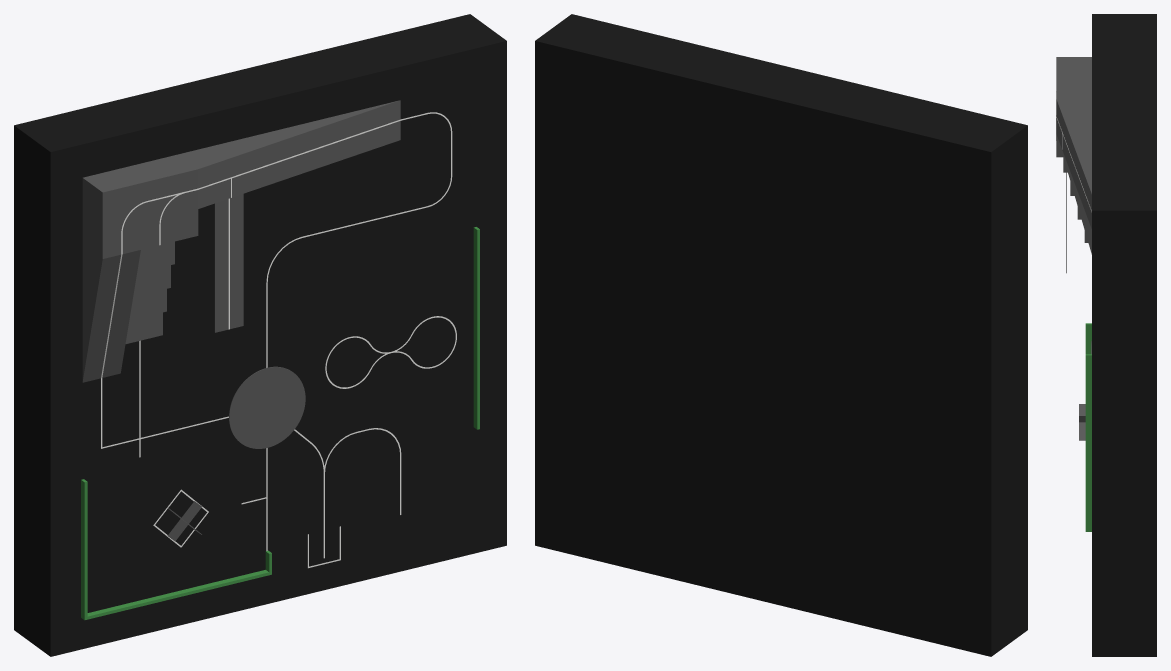
File: map.fbx
The picture shows the model from 3 angles, left to right: view 1: azimuth 30°, elevation 25°; view 2: azimuth 150°, elevation 25°; view 3: azimuth 270°, elevation 25°; orthographic projection. The views are drawn at different scales.
Parts seen in each view (by area): view 1: ground, big_ramp, block, small_ramp, roundabout, seesaw, planks_luggages, plank_8, stair_4, stair_3, stair_2, stair_1 (+1 smaller); view 2: ground; view 3: ground, big_ramp, block, plank_8, cross, planks_luggages.
Boxes of the visible parts, bbox=[...] form: ground: bbox=[14, 14, 506, 656]; big_ramp: bbox=[178, 100, 400, 208]; block: bbox=[82, 154, 198, 258]; small_ramp: bbox=[82, 245, 140, 382]; roundabout: bbox=[229, 366, 305, 448]; seesaw: bbox=[214, 194, 243, 332]; planks_luggages: bbox=[81, 479, 271, 620]; plank_8: bbox=[473, 227, 479, 429]; stair_4: bbox=[137, 241, 174, 273]; stair_3: bbox=[133, 265, 170, 296]; stair_2: bbox=[129, 289, 166, 320]; stair_1: bbox=[125, 312, 162, 343]; ground: bbox=[535, 14, 1027, 656]; ground: bbox=[1092, 14, 1156, 656]; big_ramp: bbox=[1056, 98, 1091, 228]; block: bbox=[1056, 57, 1091, 157]; plank_8: bbox=[1085, 354, 1091, 531]; cross: bbox=[1079, 404, 1085, 440]; planks_luggages: bbox=[1085, 323, 1091, 354].
Size of the model in its own units: 7170 by 7580 by 1551.
